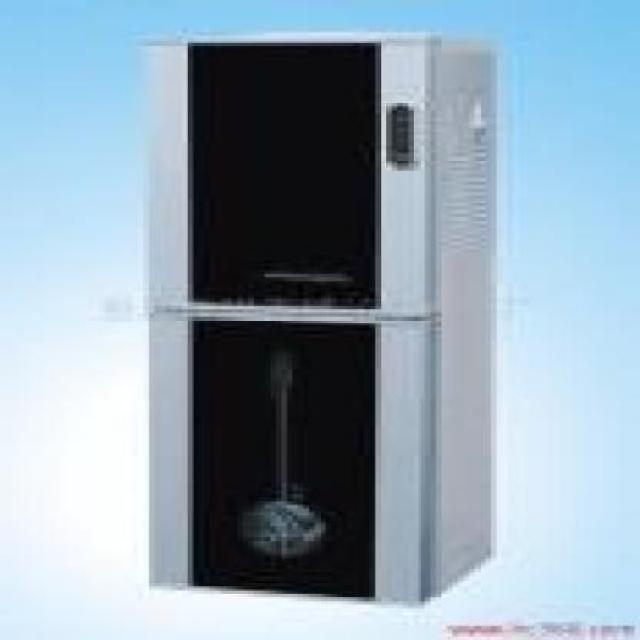cooler: (142, 29, 510, 608)
